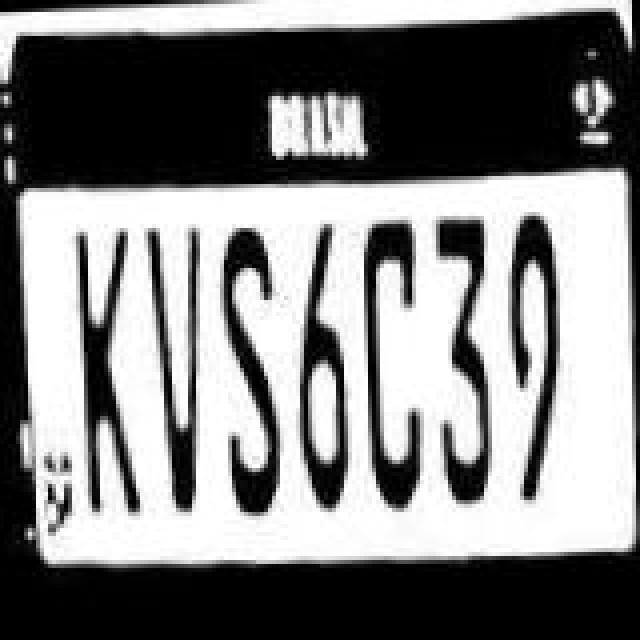3: (422, 206, 502, 526)
6: (280, 208, 364, 520)
9: (492, 200, 576, 516)
C: (356, 212, 432, 528)
K: (54, 202, 142, 514)
S: (204, 206, 288, 514)
V: (138, 206, 210, 522)
